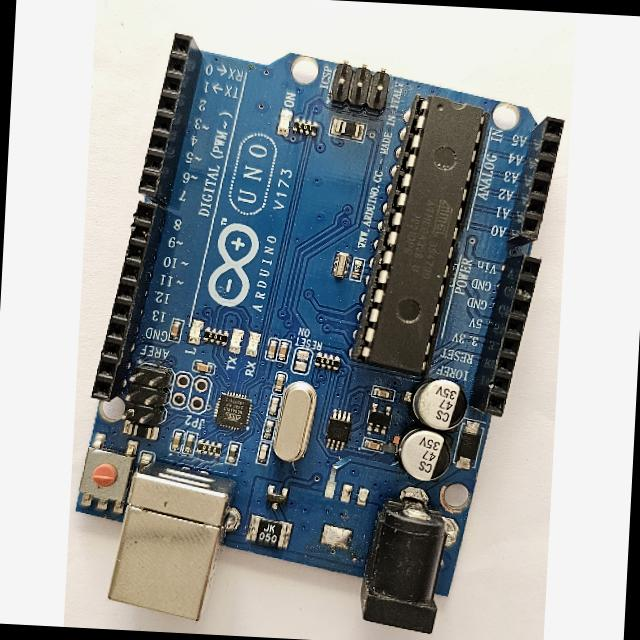missing_voltage_reg: (308, 470, 381, 561)
